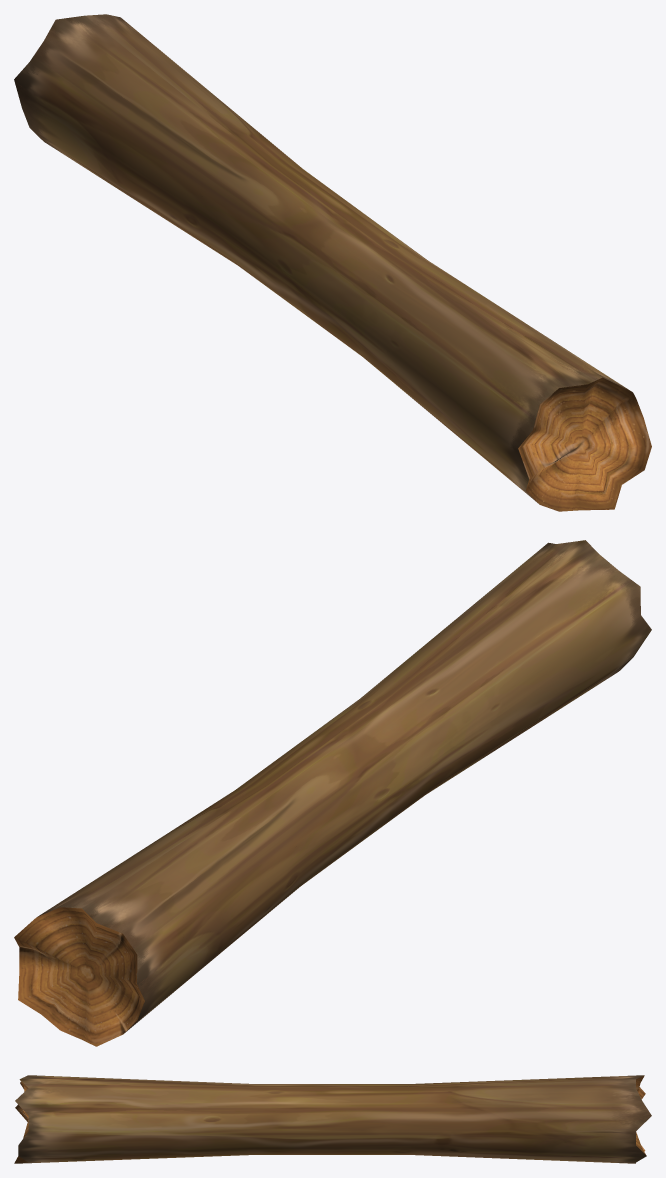
Rendered from ast_mit_textures2.fbx.
3 renders of one model, top to bottom at view 1: azimuth 30°, elevation 25°; view 2: azimuth 150°, elevation 25°; view 3: azimuth 270°, elevation 25°, orthographic. The views are drawn at different scales.
Parts seen in each view (by area): view 1: ast2; view 2: ast2; view 3: ast2.
Boxes of the visible parts, <box> form: ast2: <box>14,14,651,511</box>; ast2: <box>14,540,651,1046</box>; ast2: <box>14,1075,651,1163</box>.
Size of the model in its own units: 60 by 60 by 431.
